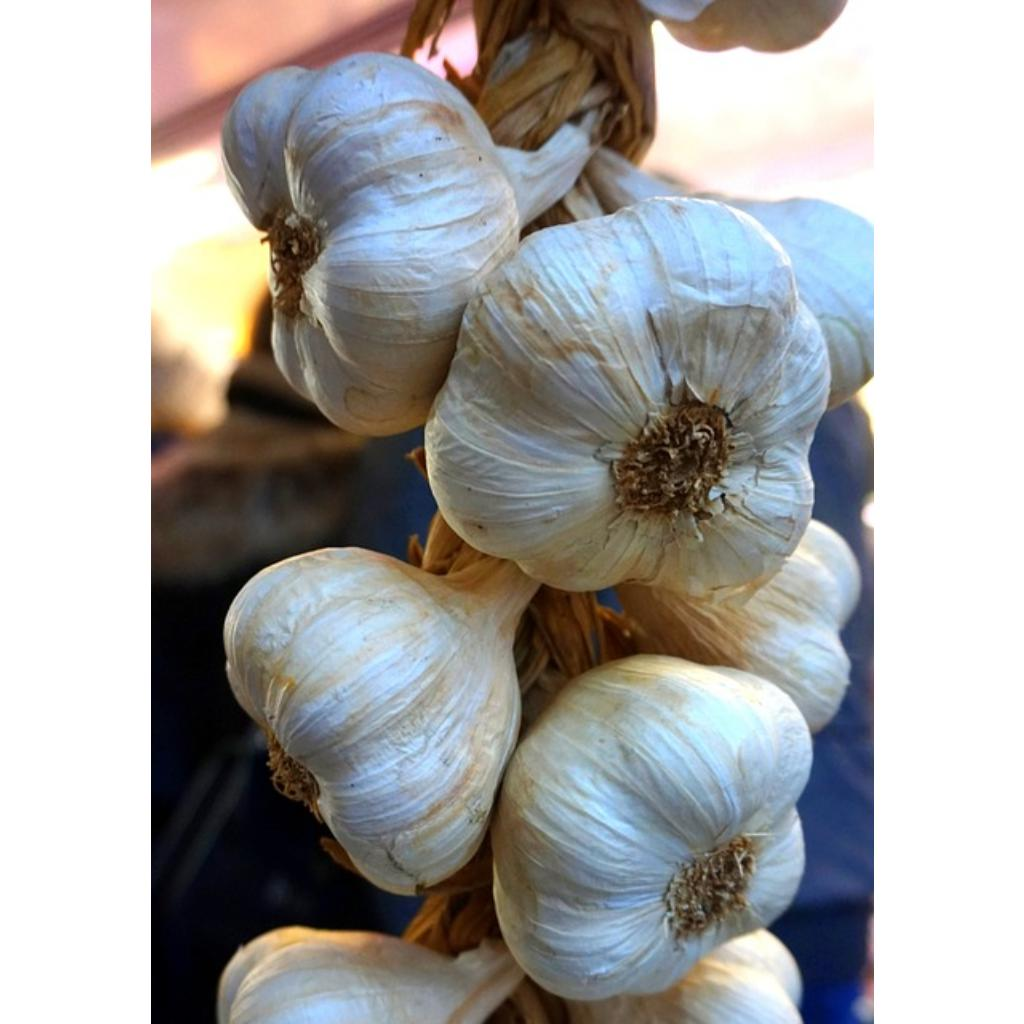garlic: (424, 198, 830, 594), (222, 54, 592, 435), (490, 654, 810, 1000), (224, 548, 538, 893), (616, 520, 860, 731), (727, 200, 872, 405), (218, 928, 522, 1024)
